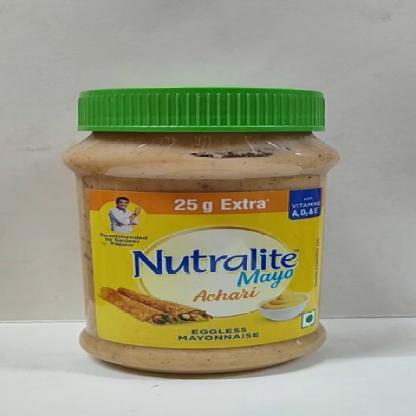Nutralite ACHARI MAYO 300g-275g-25g-: (64, 88, 343, 376)
